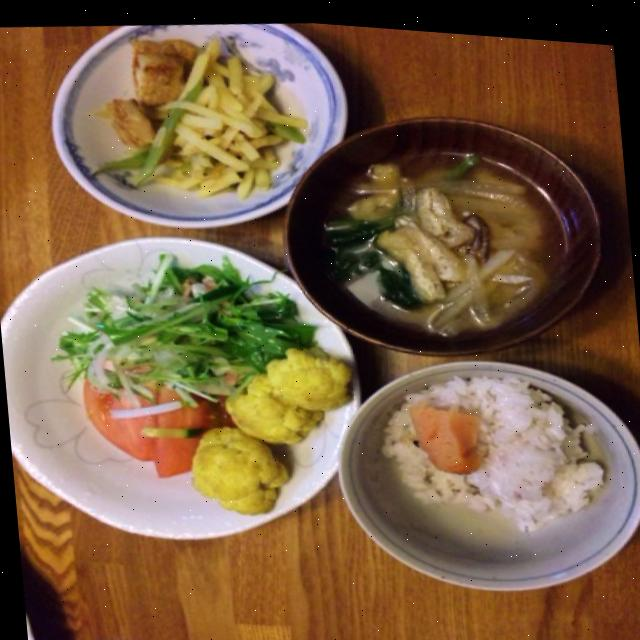汤锅炖物: (266, 84, 624, 401)
米饭主食: (286, 313, 640, 620)
蔬菜料理: (0, 214, 337, 549)
